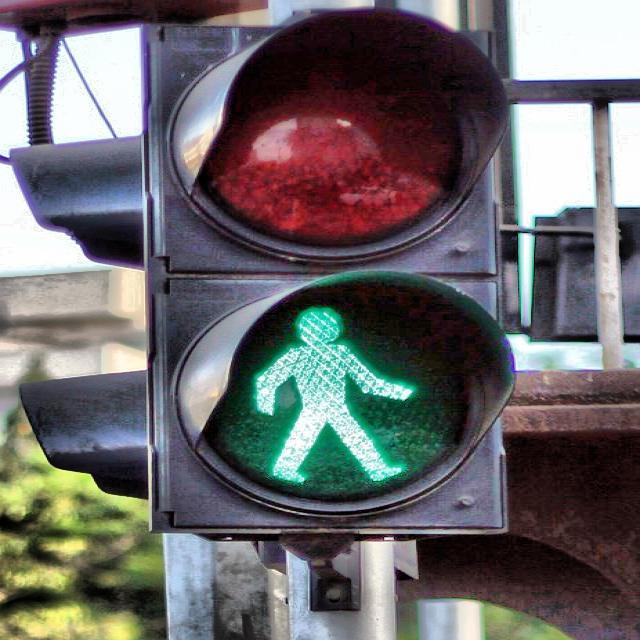green_light: (246, 303, 426, 490)
